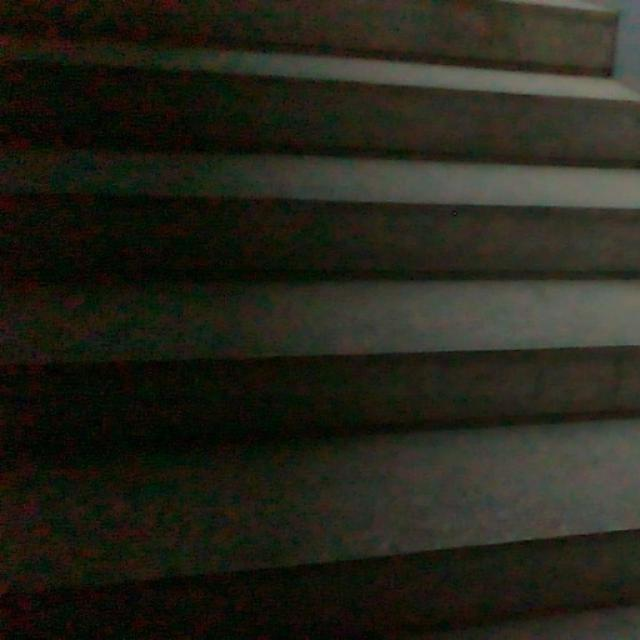stair: (0, 2, 638, 640)
